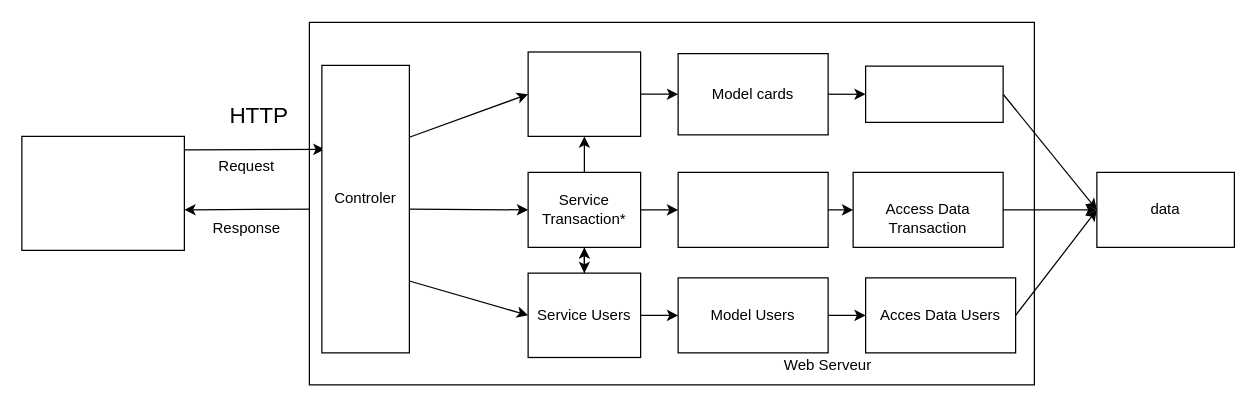
Image size: 1256x406. Some labels were removed from this diagram. The shapes that lost their labels are listed below. From the top down, each one's box as (x1, y1, x2, y2) in pixels, then its label:
(527, 51, 641, 136): Service Cards
(864, 65, 1003, 122): Acces Data Cards
(21, 135, 184, 250): Client (Browser)
(677, 171, 828, 247): Model Transaction
